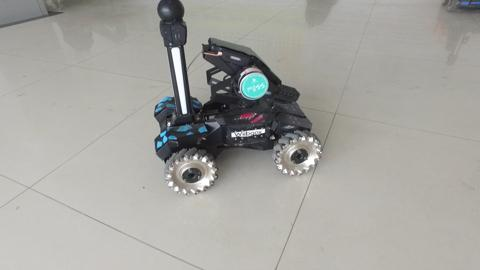chariot: (153, 1, 322, 197)
